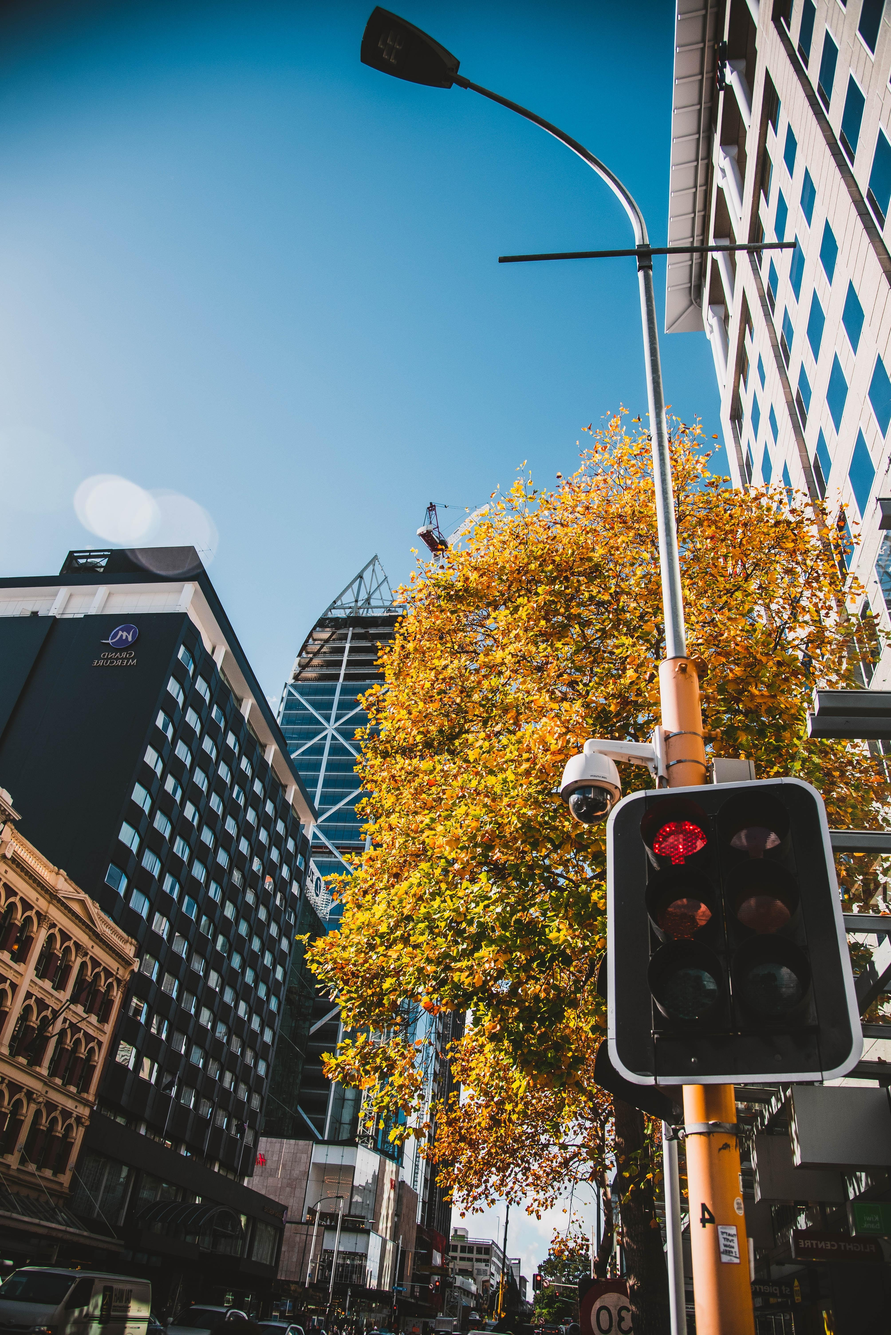red: (608, 794, 741, 1061)
